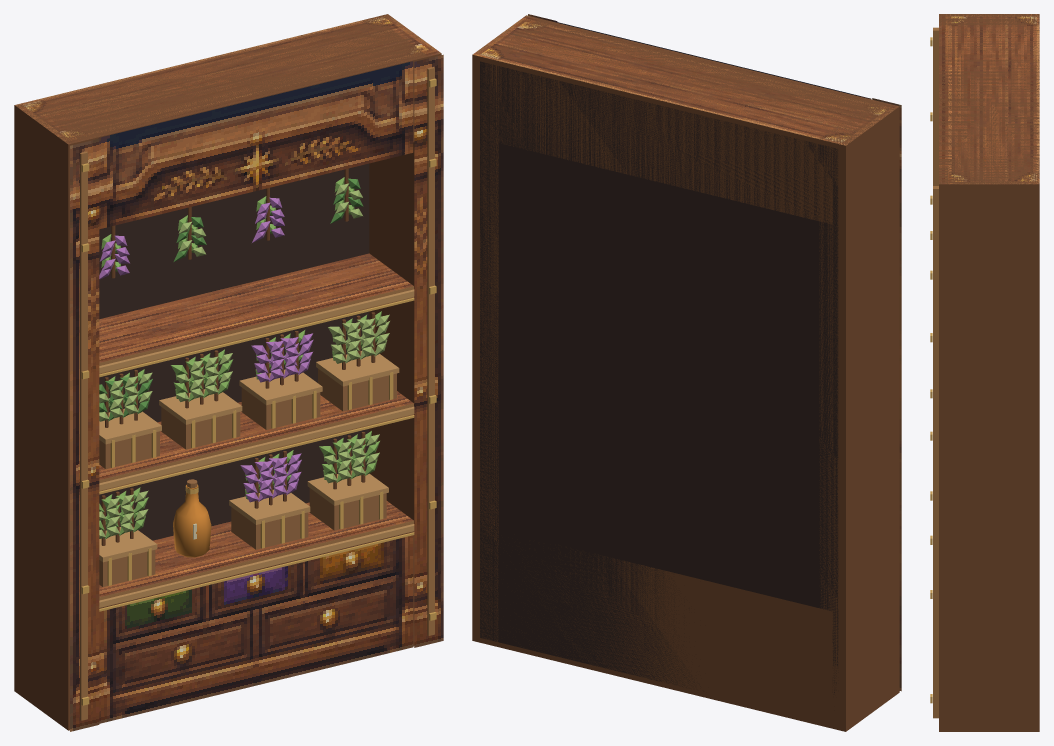
File: herb-cabinet.glb
3 renders of one model, left to right at view 1: azimuth 30°, elevation 25°; view 2: azimuth 150°, elevation 25°; view 3: azimuth 270°, elevation 25°, orthographic. The views are drawn at different scales.
Parts seen in each view (by area): view 1: Herb Cabinet with 3D Wares; view 2: Herb Cabinet with 3D Wares; view 3: Herb Cabinet with 3D Wares.
Boxes of the visible parts, <box> form: Herb Cabinet with 3D Wares: <box>14,14,443,731</box>; Herb Cabinet with 3D Wares: <box>472,14,901,731</box>; Herb Cabinet with 3D Wares: <box>930,14,1039,731</box>.
Bounding box in the file's own units: 2 × 3 × 0.543.
14 materials, 1 textured.
